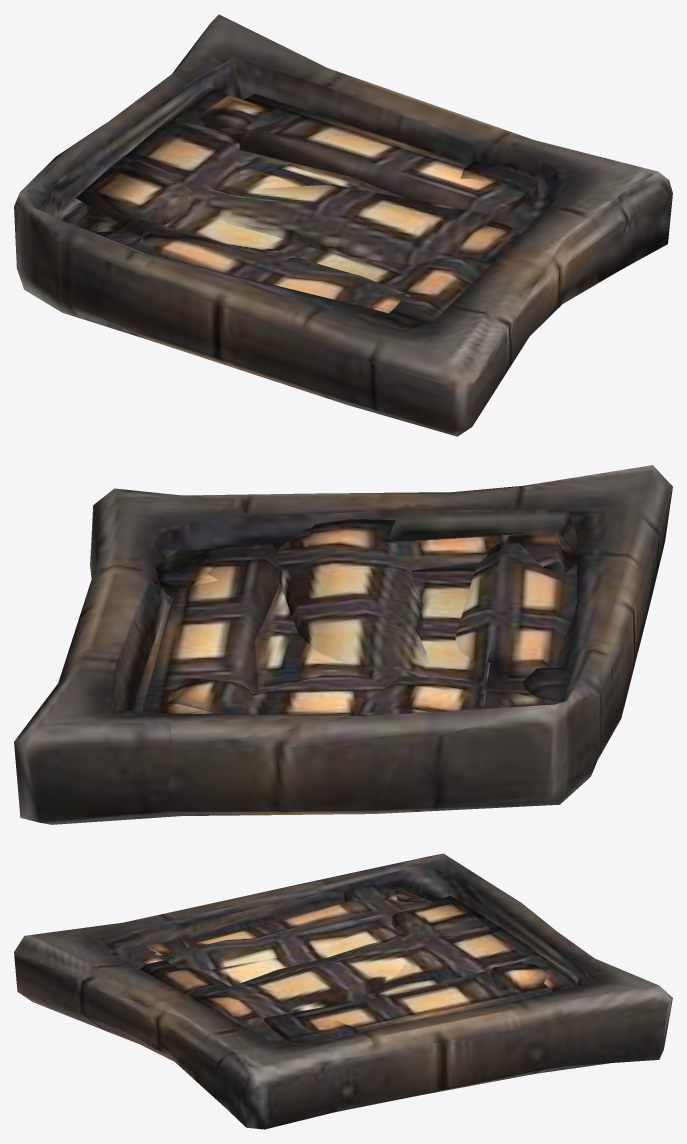
File: fj_grelha.glb
The picture shows the model from 3 angles, top to bottom: view 1: azimuth 30°, elevation 25°; view 2: azimuth 150°, elevation 25°; view 3: azimuth 270°, elevation 25°; orthographic projection. The views are drawn at different scales.
Visible parts, largest first — view 1: Mesh_0.2492; view 2: Mesh_0.2492; view 3: Mesh_0.2492.
Boxes of the visible parts, bbox=[...] form: Mesh_0.2492: bbox=[14, 14, 672, 436]; Mesh_0.2492: bbox=[14, 465, 672, 824]; Mesh_0.2492: bbox=[14, 853, 672, 1129].
Bounding box in the file's own units: 0.209 × 0.0371 × 0.2805.
1 material, 1 textured.
